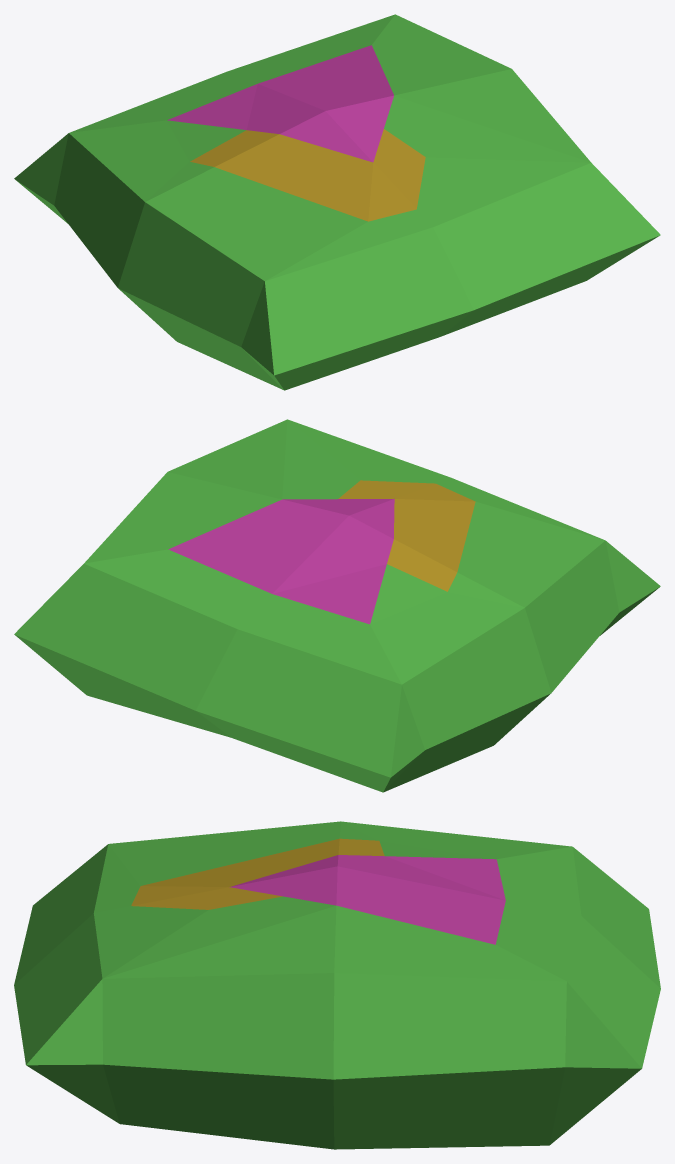
Rendered from SM_Prop_Snack_01.fbx.
The picture shows the model from 3 angles, top to bottom: view 1: azimuth 30°, elevation 25°; view 2: azimuth 150°, elevation 25°; view 3: azimuth 270°, elevation 25°; orthographic projection. The views are drawn at different scales.
Parts seen in each view (by area): view 1: SM_Prop_Snack_01; view 2: SM_Prop_Snack_01; view 3: SM_Prop_Snack_01.
Boxes of the visible parts, x1,y1,x2,y2 form: SM_Prop_Snack_01: (14, 14, 660, 390); SM_Prop_Snack_01: (14, 419, 660, 792); SM_Prop_Snack_01: (14, 821, 660, 1149).
Size of the model in its own units: 17.38 by 7.62 by 19.31.
